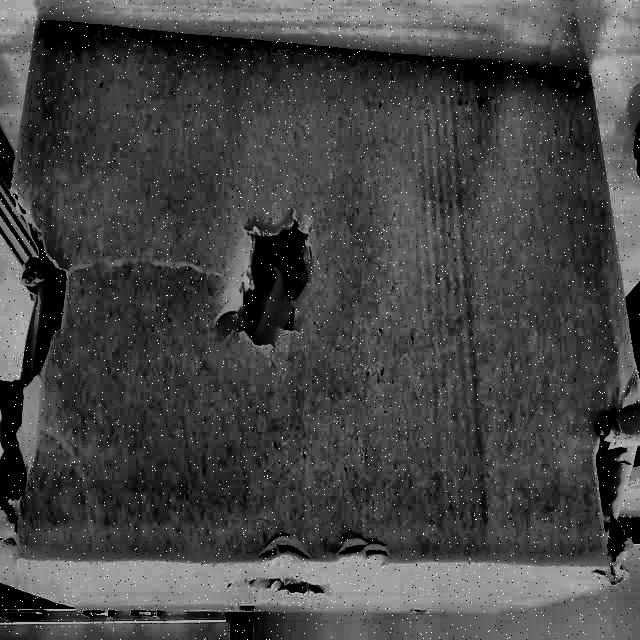box: (0, 11, 639, 622)
hole: (0, 218, 75, 537), (227, 202, 318, 358), (591, 395, 636, 573), (245, 562, 335, 610)
